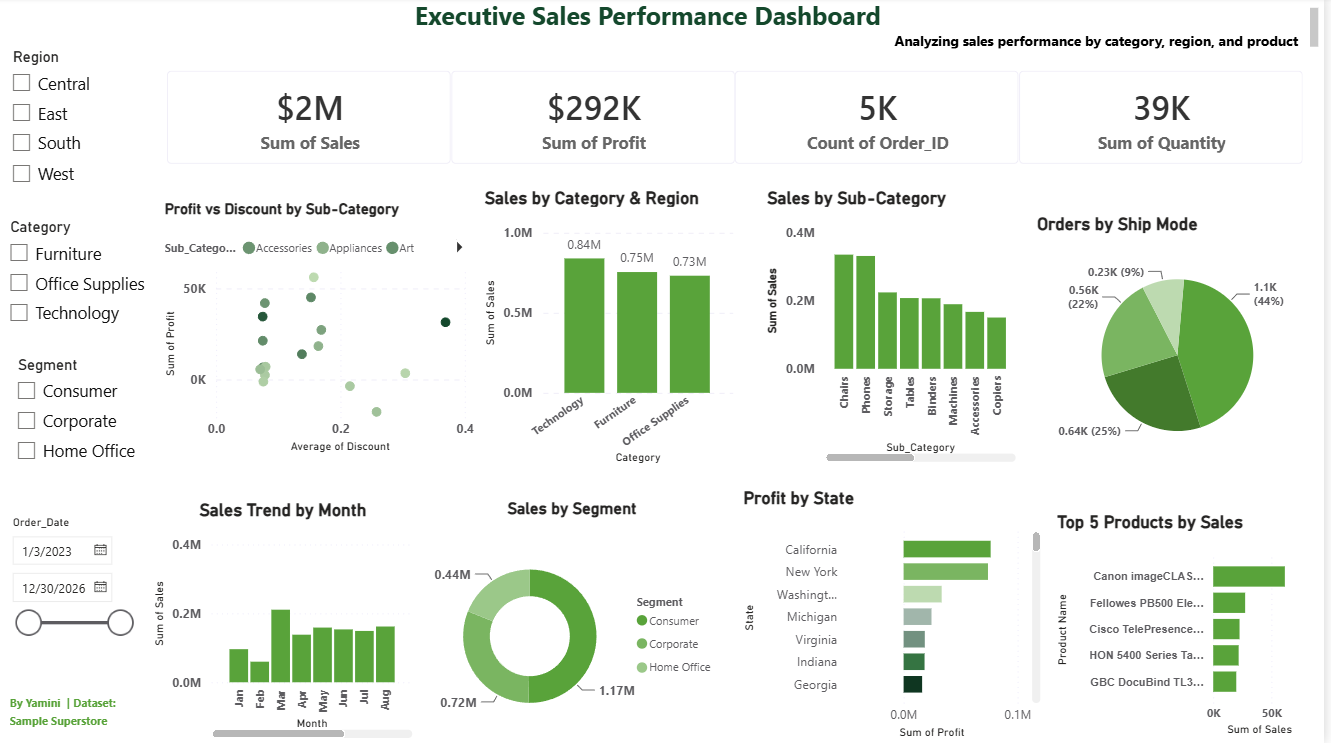

The dashboard page shown, as its layout file describes it:
{"tool":"powerbi","page":{"name":"Page 1","canvas":[1280,720],"ordinal":0},"visuals":[{"type":"columnChart","title":"Sales by Category & Region","fields":{"Category":["samplesuperstore.Category"],"Y":["Sum(samplesuperstore.Sales)"]},"box":[465.7,183.4,250,271.5],"z":0},{"type":"cardVisual","fields":{"Data":["Sum(samplesuperstore.Sales)","Sum(samplesuperstore.Profit)","Count(samplesuperstore.Order_ID)","Sum(samplesuperstore.Quantity)"]},"box":[147.2,54.3,1132.8,124.3],"z":1000},{"type":"columnChart","title":"Sales by Sub-Category","fields":{"Category":["samplesuperstore.Sub_Category"],"Y":["Sum(samplesuperstore.Sales)"]},"box":[738.3,183.4,250,270.2],"z":2000},{"type":"columnChart","title":"\tSales Trend by Month","fields":{"Category":["DateTable.Month"],"Y":["Sum(samplesuperstore.Sales)"]},"box":[146,485,260,235],"z":3000},{"type":"donutChart","title":"Sales by Segment","fields":{"Category":["samplesuperstore.Segment"],"Y":["Sum(samplesuperstore.Sales)"]},"box":[406.6,485,296.8,235.3],"z":5000},{"type":"scatterChart","title":"Profit vs Discount by Sub-Category","fields":{"Series":["samplesuperstore.Sub_Category"],"X":["Avg(samplesuperstore.Discount)"],"Y":["Sum(samplesuperstore.Profit)"]},"box":[156.8,195.4,308.8,249.7],"z":6000},{"type":"slicer","fields":{"Values":["samplesuperstore.Region"]},"box":[2.4,44.6,137,152.9],"z":7000},{"type":"slicer","fields":{"Values":["samplesuperstore.Segment"]},"box":[7.2,341.4,139.4,133.3],"z":7001},{"type":"slicer","fields":{"Values":["samplesuperstore.Category"]},"box":[0,208.7,154.1,133.3],"z":7002},{"type":"slicer","fields":{"Values":["samplesuperstore.Order_Date"]},"box":[2.4,495.8,138.2,139.4],"z":7003},{"type":"clusteredBarChart","title":"Profit by State","fields":{"Category":["samplesuperstore.State"],"Y":["Sum(samplesuperstore.Profit)"]},"box":[715.4,472.9,296.8,247.3],"z":7004},{"type":"clusteredBarChart","title":"\tTop 5 Products by Sales","fields":{"Category":["samplesuperstore.Product Name"],"Y":["Sum(samplesuperstore.Sales)"]},"box":[1018.2,477.8,260.6,240.1],"z":7005},{"type":"pieChart","title":"Orders by Ship Mode","fields":{"Category":["samplesuperstore.Ship Mode"],"Y":["Count(samplesuperstore.Order_Date)"]},"box":[998.9,208.7,281.1,243.7],"z":7006},{"type":"textbox","box":[7.2,0,1272.8,54.3],"z":7007},{"type":"textbox","box":[7.2,666,147.2,51.9],"z":7008}]}

Visuals, with their boxes in screenshot pixels (x1, y1, x2, y2), scaled from the page's 1280x720 canvas onto the 1331x743 screenshot:
"Sales by Category & Region" columnChart: region(484, 189, 744, 469)
cardVisual - Sum(samplesuperstore.Sales) x Sum(samplesuperstore.Profit): region(153, 56, 1330, 184)
"Sales by Sub-Category" columnChart: region(768, 189, 1028, 468)
"	Sales Trend by Month" columnChart: region(152, 500, 422, 742)
"Sales by Segment" donutChart: region(423, 500, 731, 742)
"Profit vs Discount by Sub-Category" scatterChart: region(163, 202, 484, 459)
slicer - samplesuperstore.Region: region(2, 46, 145, 204)
slicer - samplesuperstore.Segment: region(7, 352, 152, 490)
slicer - samplesuperstore.Category: region(0, 215, 160, 353)
slicer - samplesuperstore.Order_Date: region(2, 512, 146, 655)
"Profit by State" clusteredBarChart: region(744, 488, 1053, 742)
"	Top 5 Products by Sales" clusteredBarChart: region(1059, 493, 1330, 741)
"Orders by Ship Mode" pieChart: region(1039, 215, 1330, 467)
textbox: region(7, 0, 1330, 56)
textbox: region(7, 687, 161, 741)
